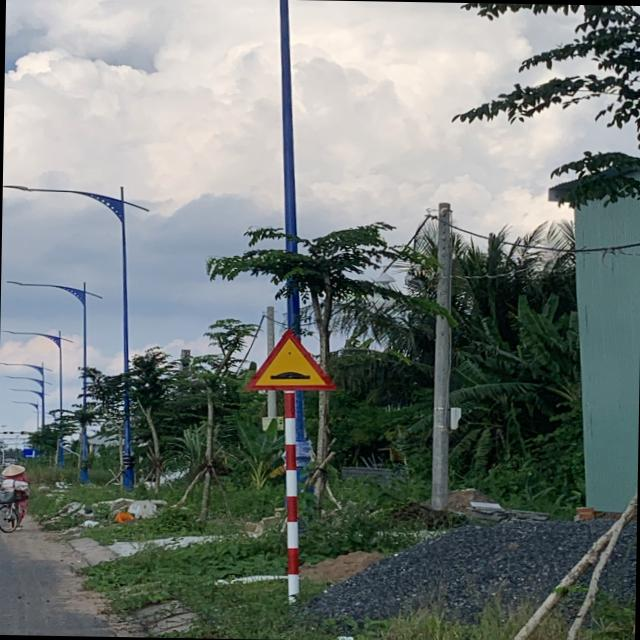Duong_Cong_Ben_Phai: (245, 328, 336, 392)
